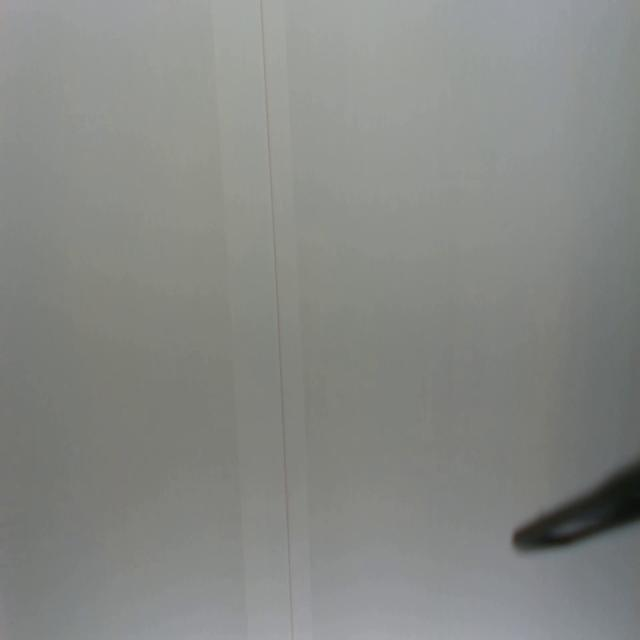crease: (257, 1, 298, 640)
